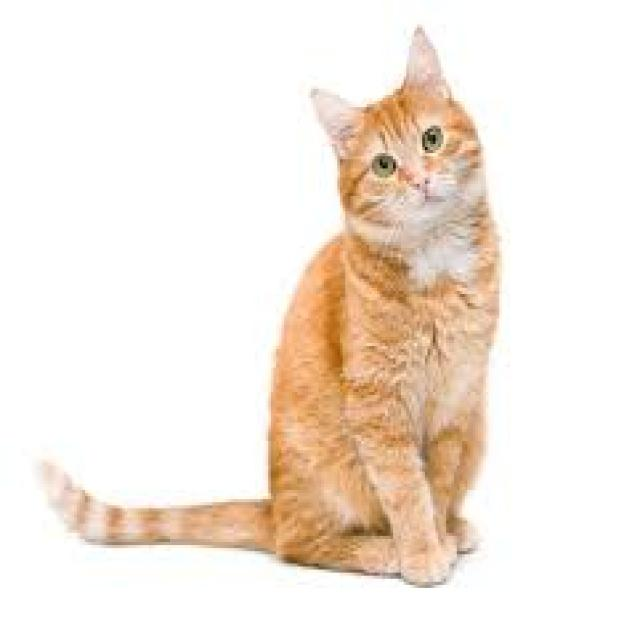cat: (41, 16, 518, 588)
